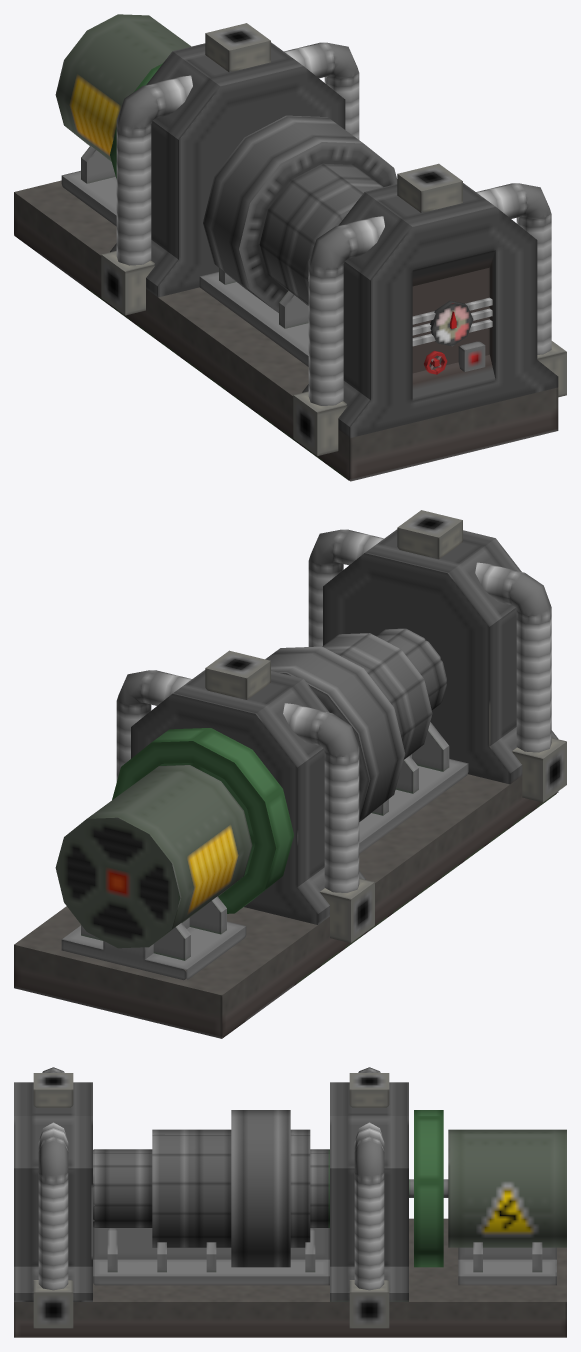
Rendered from industrial_turbine.obj.
3 renders of one model, top to bottom at view 1: azimuth 30°, elevation 25°; view 2: azimuth 150°, elevation 25°; view 3: azimuth 270°, elevation 25°, orthographic. The views are drawn at different scales.
Visible parts, largest first — view 1: Turbine; view 2: Turbine, Flywheel; view 3: Turbine, Flywheel.
Part boxes in pixels (<box>): Turbine: <box>14,14,566,481</box>; Turbine: <box>14,510,566,1038</box>; Flywheel: <box>112,728,293,913</box>; Turbine: <box>14,1067,566,1337</box>; Flywheel: <box>409,1110,448,1267</box>.
Bounding box in the file's own units: 3 × 3 × 7.
